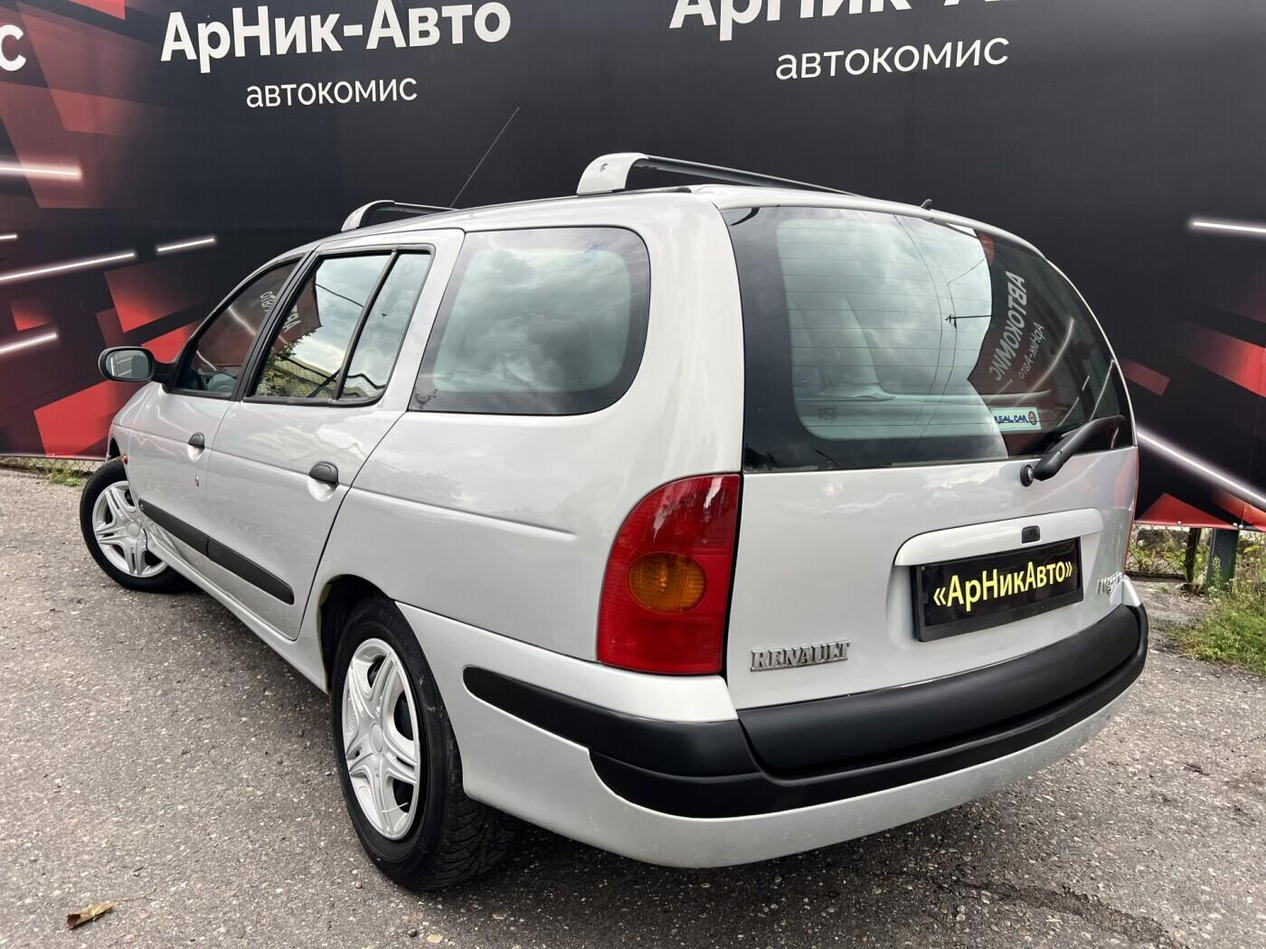Megane_1999-2003: (81, 178, 1157, 893)
